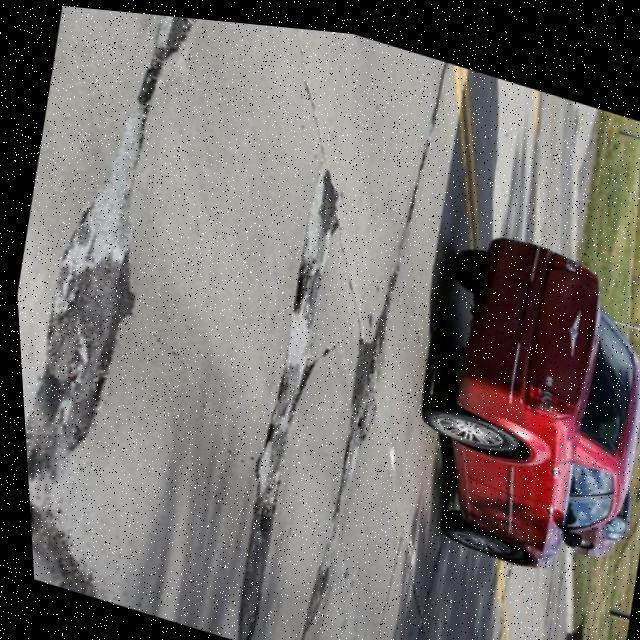Pothole: (26, 19, 197, 488), (233, 171, 348, 640), (30, 506, 98, 598), (349, 300, 394, 438)
